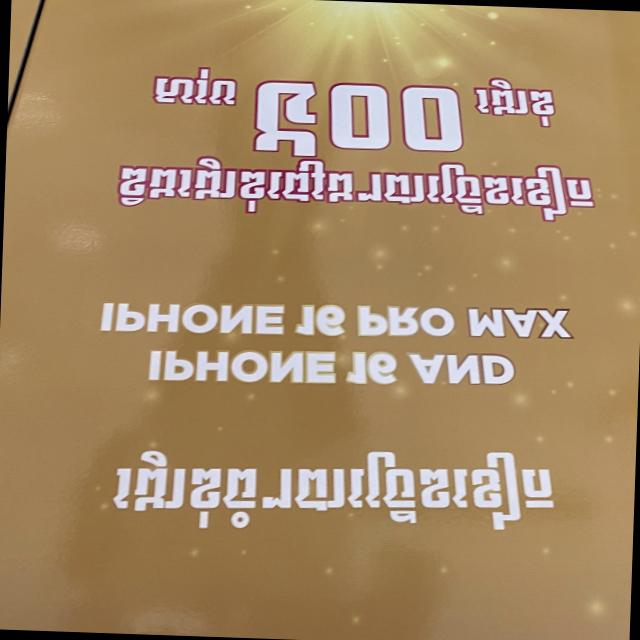598: (342, 345, 400, 392), (291, 300, 348, 339)
Yolov11_80vkh: (99, 442, 565, 531), (108, 146, 601, 222), (242, 72, 470, 166), (470, 75, 558, 134), (149, 64, 246, 112)
